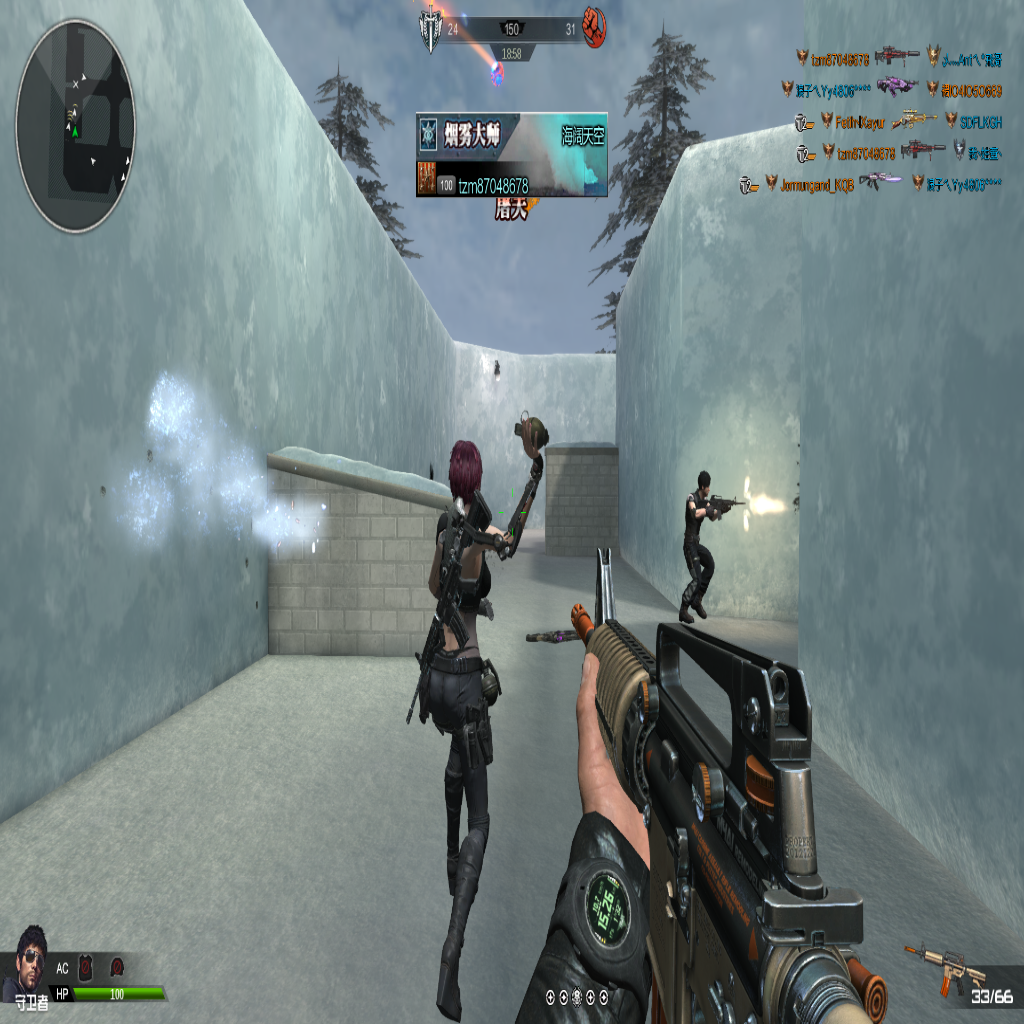ct: (412, 439, 493, 759)
